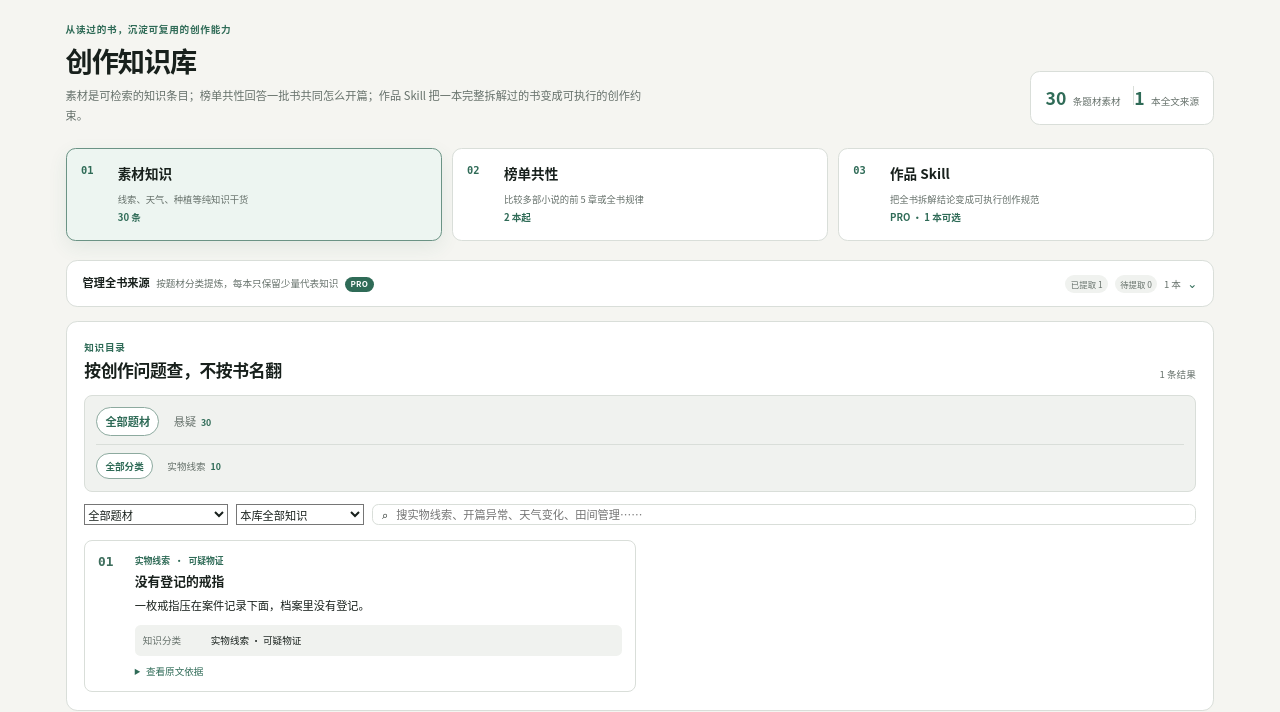
Test: 独立题材知识库 › 免费版提取素材时明确引导购买或激活，不把权限提示伪装成提取失败
Click the text "管理全书来源" at (116, 283), box [83,274,150,292]
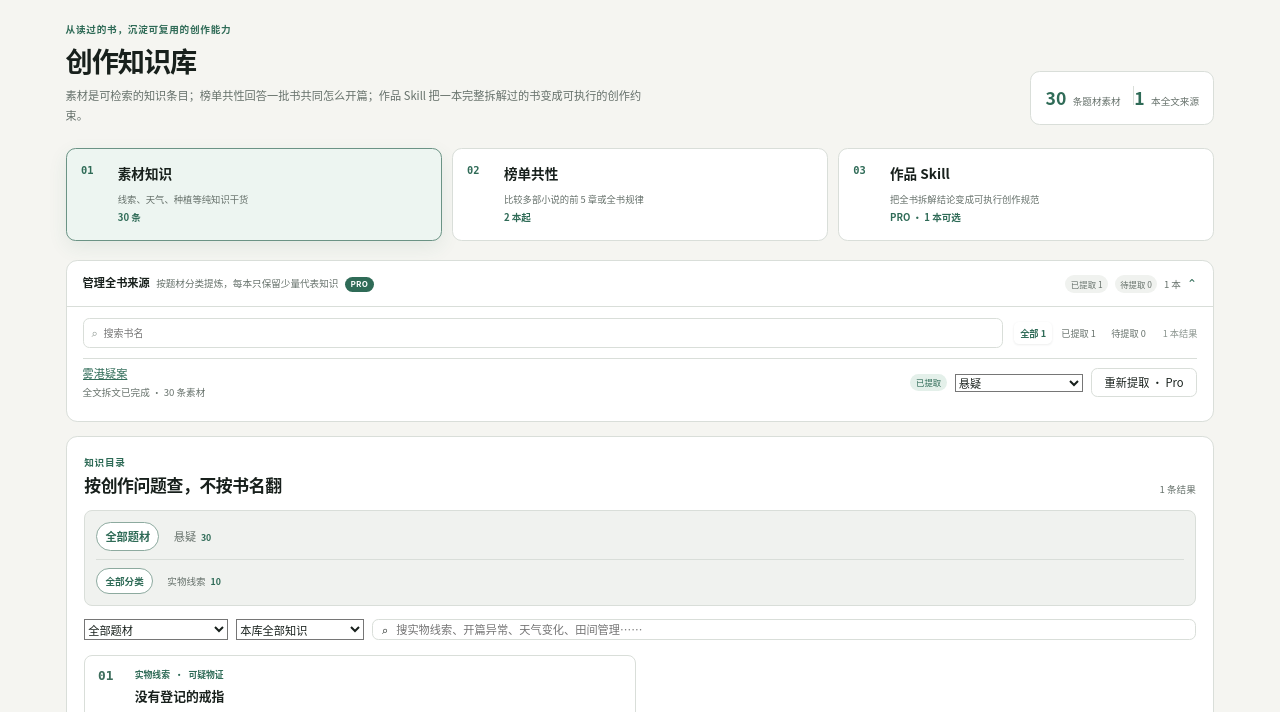
Click the button "重新提取 · Pro" at (1144, 382), box [1091,368,1197,397]
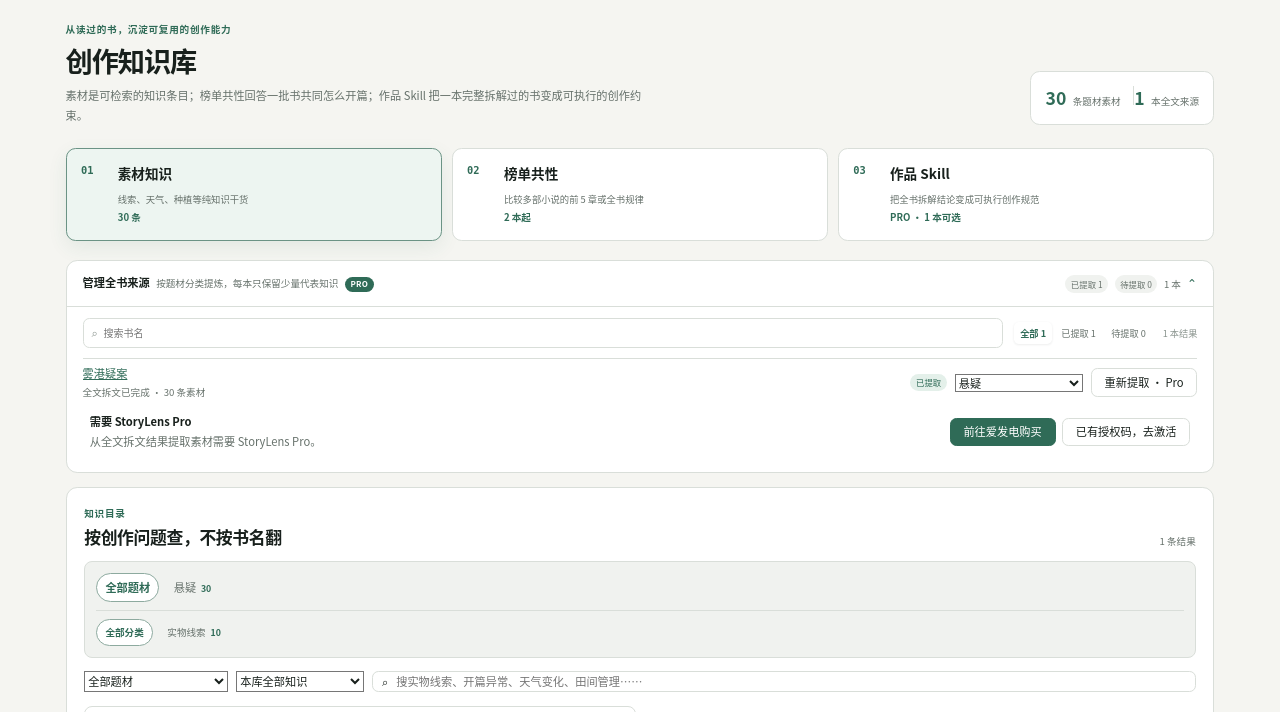
Now the message with test id "knowledge-pro-required" shows "需要 StoryLens Pro", box [90,413,192,429]
Now the message with test id "knowledge-pro-required" shows "前往爱发电购买", box [950,418,1056,446]
